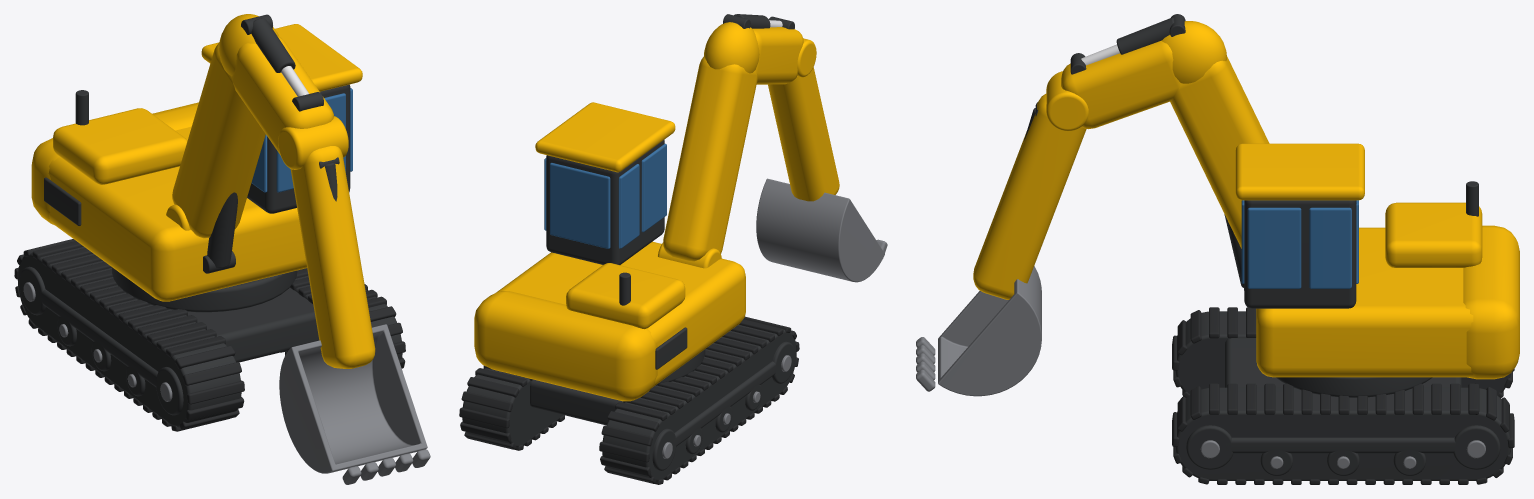
Rendered from Excavator.glb.
The picture shows the model from 3 angles, left to right: view 1: azimuth 30°, elevation 25°; view 2: azimuth 150°, elevation 25°; view 3: azimuth 270°, elevation 25°; orthographic projection. The views are drawn at different scales.
Parts seen in each view (by area): view 1: Excavator_Swing_Yellow, Excavator_Excavator_Root_DarkGrey, Excavator_Boom_Yellow, Excavator_Bucket_SteelGrey, Excavator_Stick_Yellow, Excavator_Excavator_Root_Rubber, Excavator_Swing_DarkGrey, Excavator_Boom_DarkGrey, Excavator_Swing_Glass, Excavator_Excavator_Root_SteelGrey; view 2: Excavator_Swing_Yellow, Excavator_Boom_Yellow, Excavator_Excavator_Root_DarkGrey, Excavator_Excavator_Root_Rubber, Excavator_Bucket_SteelGrey, Excavator_Swing_Glass, Excavator_Stick_Yellow, Excavator_Swing_DarkGrey, Excavator_Boom_DarkGrey, Excavator_Excavator_Root_SteelGrey; view 3: Excavator_Swing_Yellow, Excavator_Excavator_Root_DarkGrey, Excavator_Boom_Yellow, Excavator_Stick_Yellow, Excavator_Bucket_SteelGrey, Excavator_Excavator_Root_Rubber, Excavator_Swing_Glass, Excavator_Swing_DarkGrey, Excavator_Boom_DarkGrey, Excavator_Excavator_Root_SteelGrey.
Boxes of the visible parts, x1,y1,x2,y2 form: Excavator_Swing_Yellow: (31, 24, 362, 301); Excavator_Excavator_Root_DarkGrey: (17, 246, 402, 427); Excavator_Boom_Yellow: (166, 14, 333, 238); Excavator_Bucket_SteelGrey: (279, 324, 430, 484); Excavator_Stick_Yellow: (278, 116, 375, 368); Excavator_Excavator_Root_Rubber: (14, 239, 405, 431); Excavator_Swing_DarkGrey: (44, 84, 350, 273); Excavator_Boom_DarkGrey: (241, 14, 323, 111); Excavator_Swing_Glass: (251, 88, 352, 192); Excavator_Excavator_Root_SteelGrey: (23, 282, 172, 401); Excavator_Swing_Yellow: (474, 102, 745, 401); Excavator_Boom_Yellow: (658, 22, 803, 268); Excavator_Excavator_Root_DarkGrey: (462, 324, 796, 481); Excavator_Excavator_Root_Rubber: (459, 316, 799, 484); Excavator_Bucket_SteelGrey: (756, 178, 887, 282); Excavator_Swing_Glass: (544, 143, 666, 248); Excavator_Stick_Yellow: (768, 38, 839, 201); Excavator_Swing_DarkGrey: (546, 140, 687, 369); Excavator_Boom_DarkGrey: (723, 14, 794, 29); Excavator_Excavator_Root_SteelGrey: (662, 355, 791, 458); Excavator_Swing_Yellow: (1235, 143, 1519, 379); Excavator_Excavator_Root_DarkGrey: (1175, 311, 1510, 480); Excavator_Boom_Yellow: (1061, 21, 1269, 248); Excavator_Stick_Yellow: (973, 71, 1088, 299); Excavator_Bucket_SteelGrey: (916, 266, 1041, 396); Excavator_Excavator_Root_Rubber: (1172, 307, 1514, 484); Excavator_Swing_Glass: (1241, 200, 1358, 288); Excavator_Swing_DarkGrey: (1224, 181, 1478, 308); Excavator_Boom_DarkGrey: (1070, 14, 1185, 74); Excavator_Excavator_Root_SteelGrey: (1200, 440, 1485, 468).
Bounding box in the file's own units: 1.19 × 2.04 × 2.81.
5 materials, 5 textured.
